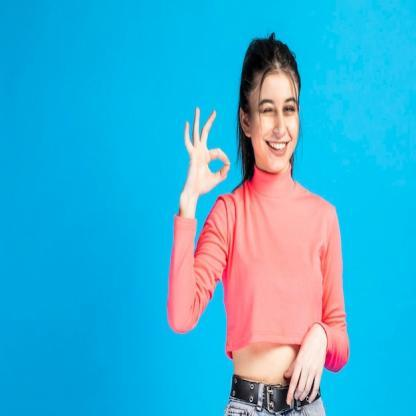ok: (180, 100, 233, 198)
